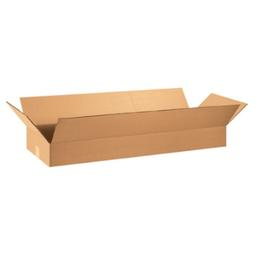cardboard: (3, 71, 249, 181)
